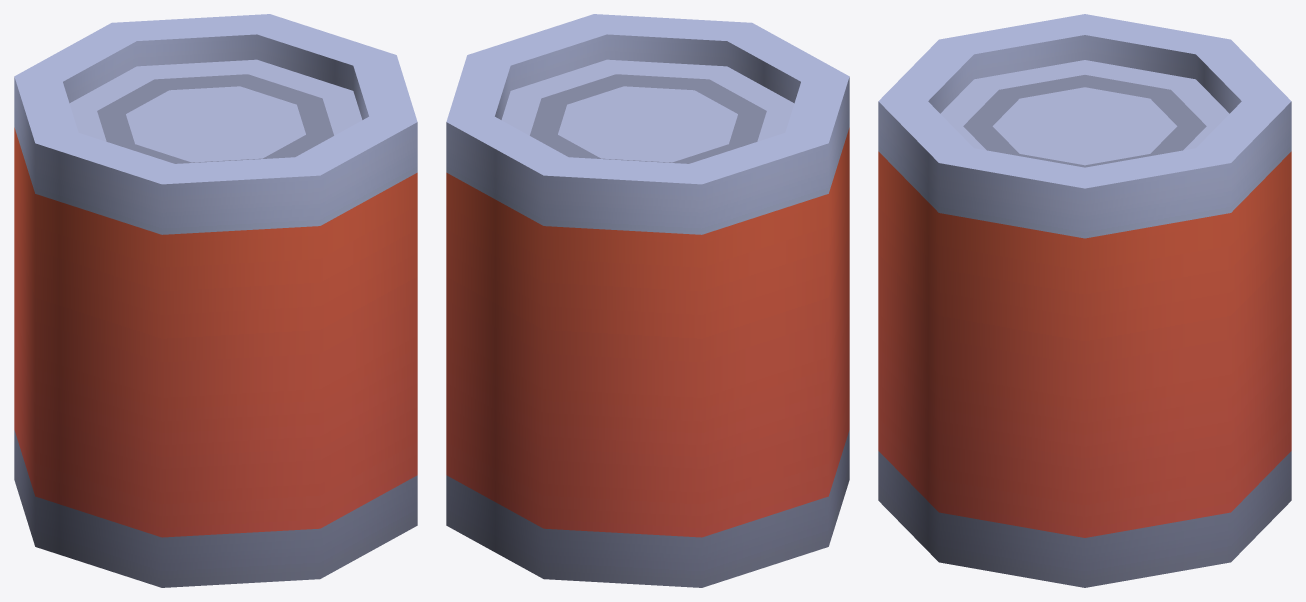
The model's file is can.glb.
3 views of the same model, side by side, from view 1: azimuth 30°, elevation 25°; view 2: azimuth 150°, elevation 25°; view 3: azimuth 270°, elevation 25° (orthographic).
Visible parts, largest first — view 1: can; view 2: can; view 3: can.
Part boxes in pixels (x1,y1,x2,y2): can: [14, 14, 417, 587]; can: [446, 14, 849, 587]; can: [878, 14, 1291, 587].
Size of the model in its own units: 0.3 by 0.32 by 0.3.
Materials: 1 (1 with a texture image).
